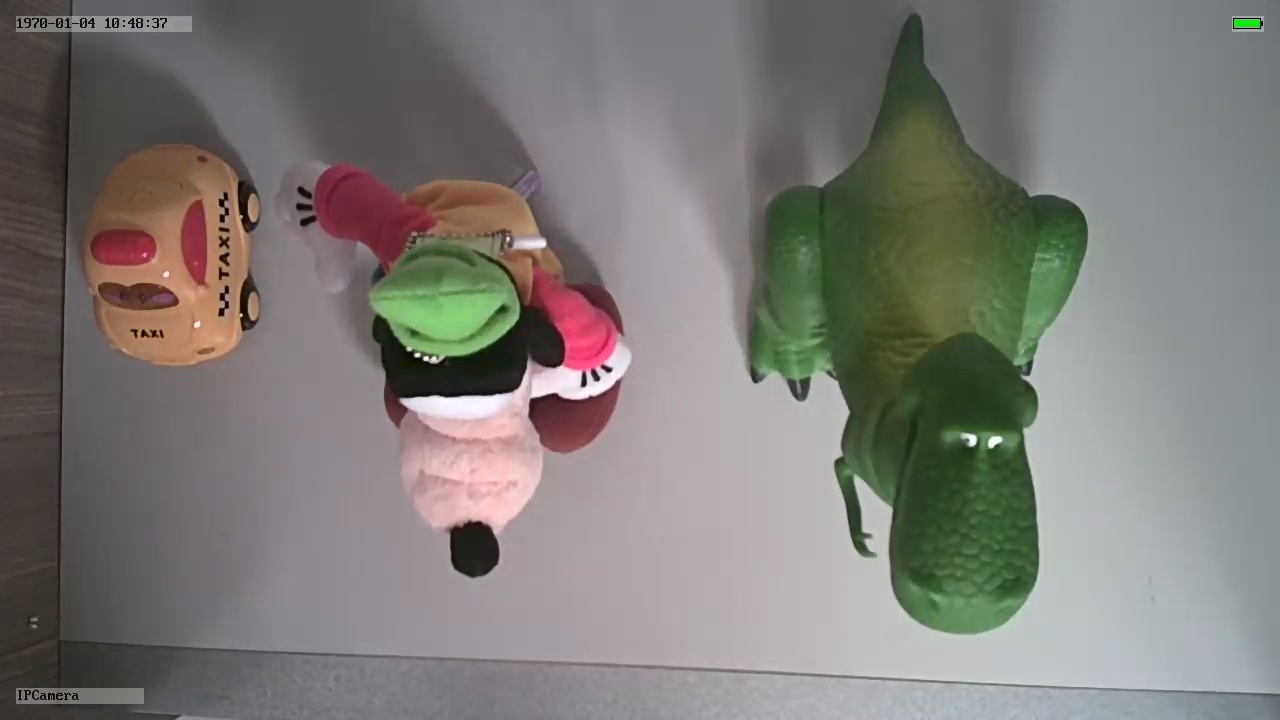car: (80, 137, 263, 367)
goofy: (270, 157, 633, 586)
rex: (746, 96, 1088, 634)
